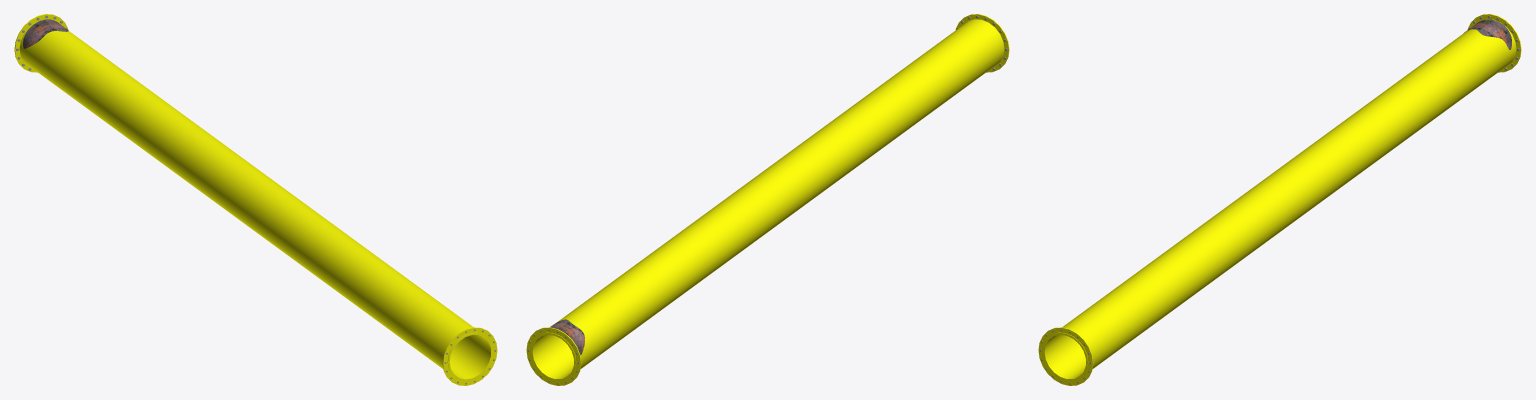
File: rusted.obj
The picture shows the model from 3 angles, left to right: view 1: azimuth 30°, elevation 25°; view 2: azimuth 150°, elevation 25°; view 3: azimuth 330°, elevation 25°; orthographic projection.
Visible parts, largest first — view 1: Pipe, Rust; view 2: Pipe, Rust; view 3: Pipe, Rust.
Part boxes in pixels (x1,y1,x2,y2): Pipe: (14, 14, 497, 385); Rust: (23, 19, 68, 48); Pipe: (526, 14, 1009, 385); Rust: (550, 319, 584, 355); Pipe: (1038, 14, 1521, 385); Rust: (1464, 19, 1511, 49).
Bounding box in the file's own units: 0.7315 × 0.7241 × 10.
3 materials, 2 textured.
